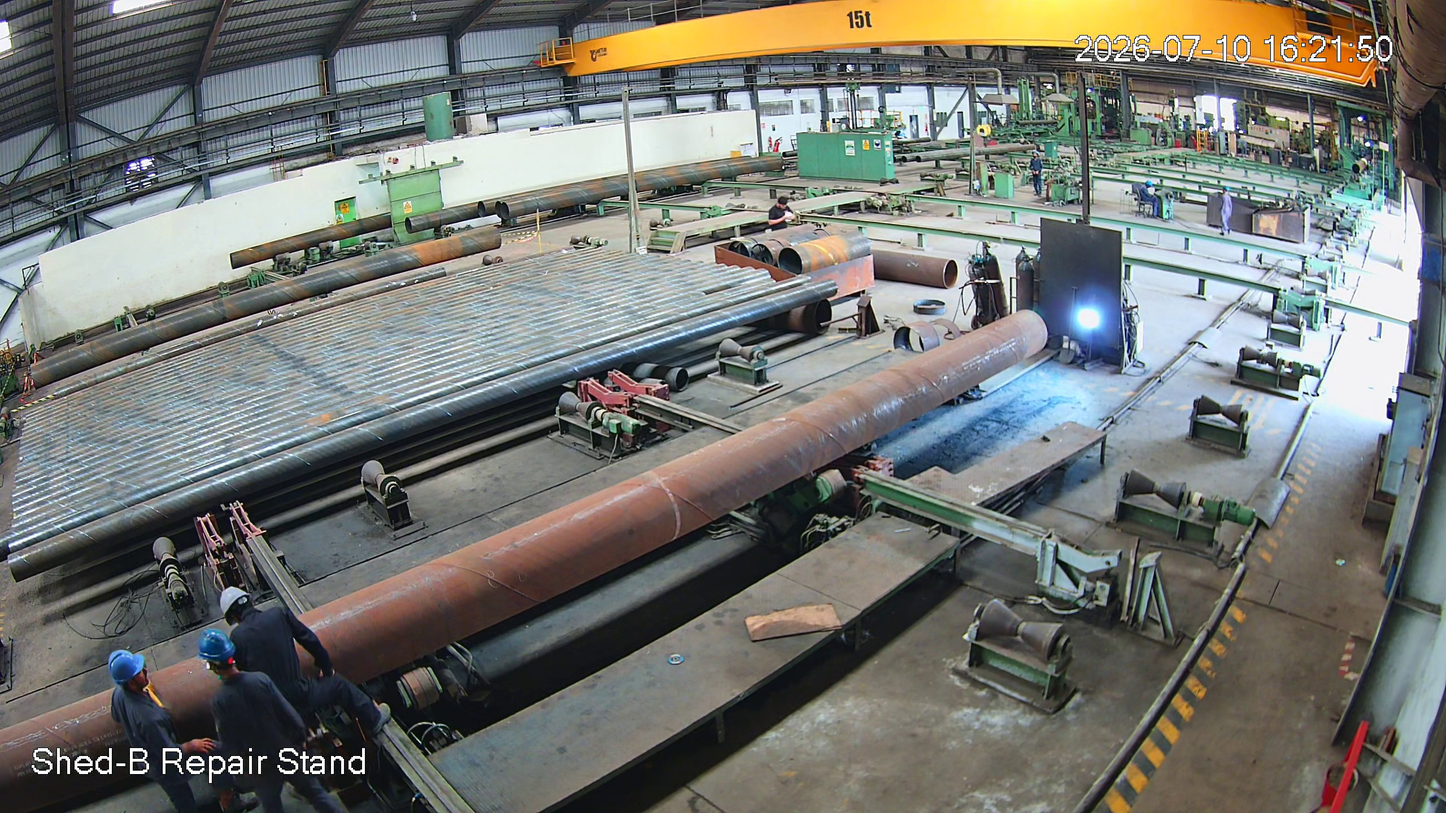Helmet: (102, 644, 163, 721), (184, 629, 254, 696), (211, 574, 268, 635)
Person: (217, 580, 404, 794), (190, 633, 302, 813), (94, 648, 188, 813), (770, 196, 797, 236)
